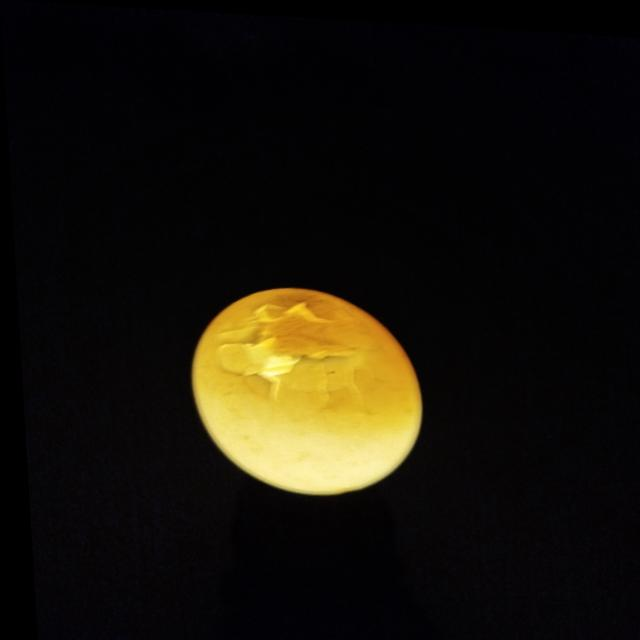Rachadura: (209, 294, 377, 408)
